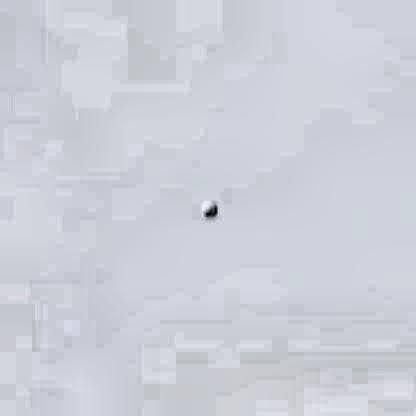golfball: (198, 193, 216, 215)
